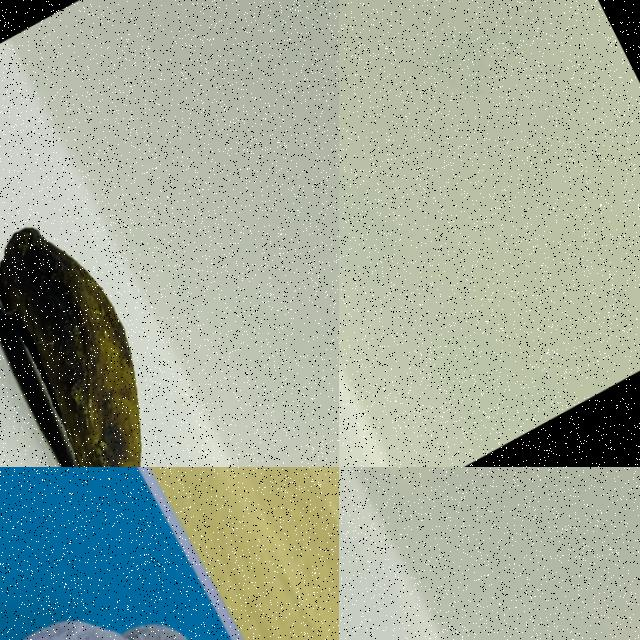Agglomerated_cocoabeans: (0, 507, 338, 639)
Flat_cocoabeans: (0, 139, 216, 466), (339, 581, 570, 639)
